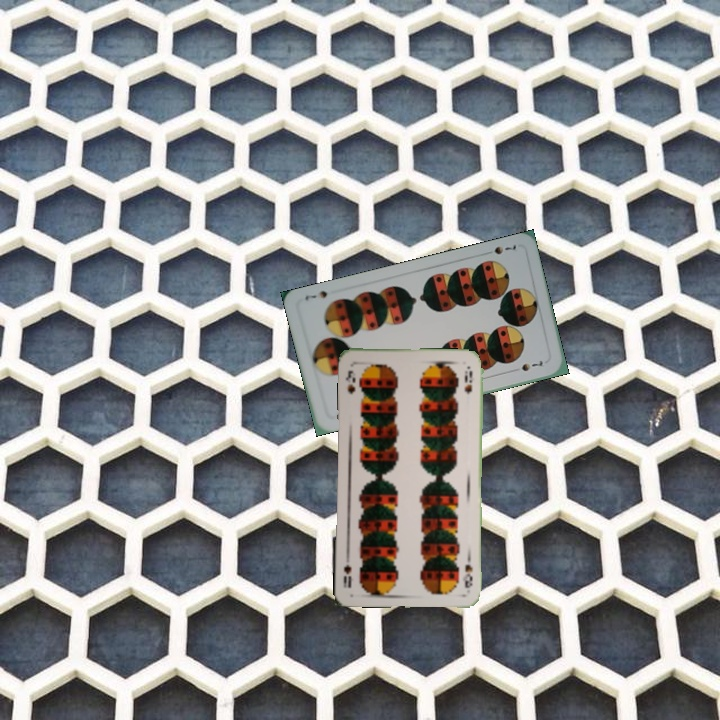S7: (480, 240, 519, 257)
S8: (459, 552, 475, 590), (341, 366, 358, 397)
